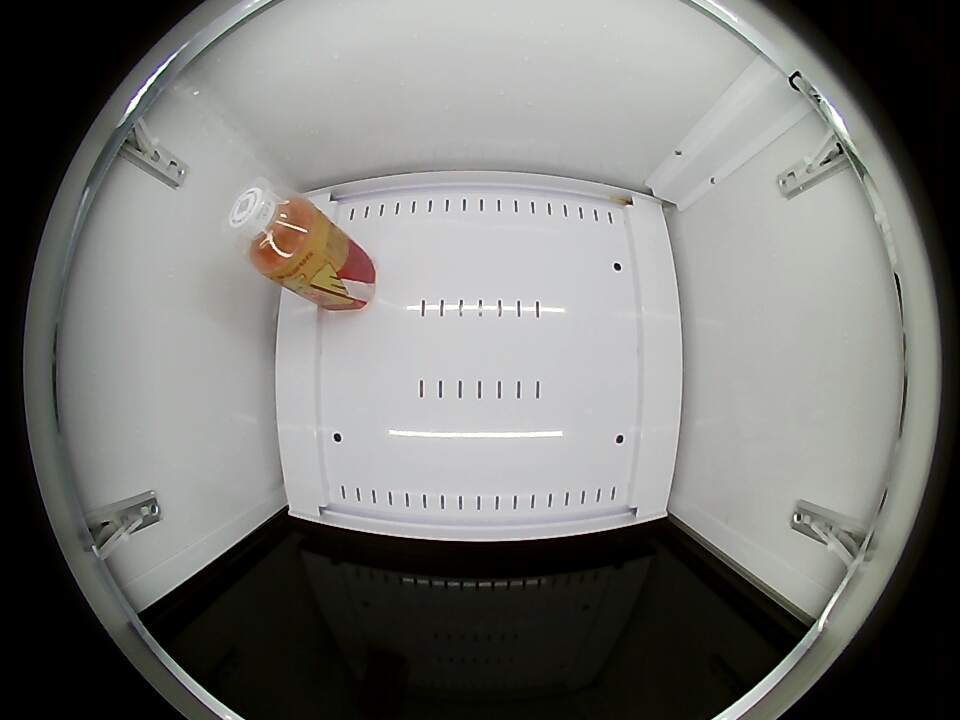dongpeng-b: (227, 184, 323, 278)
